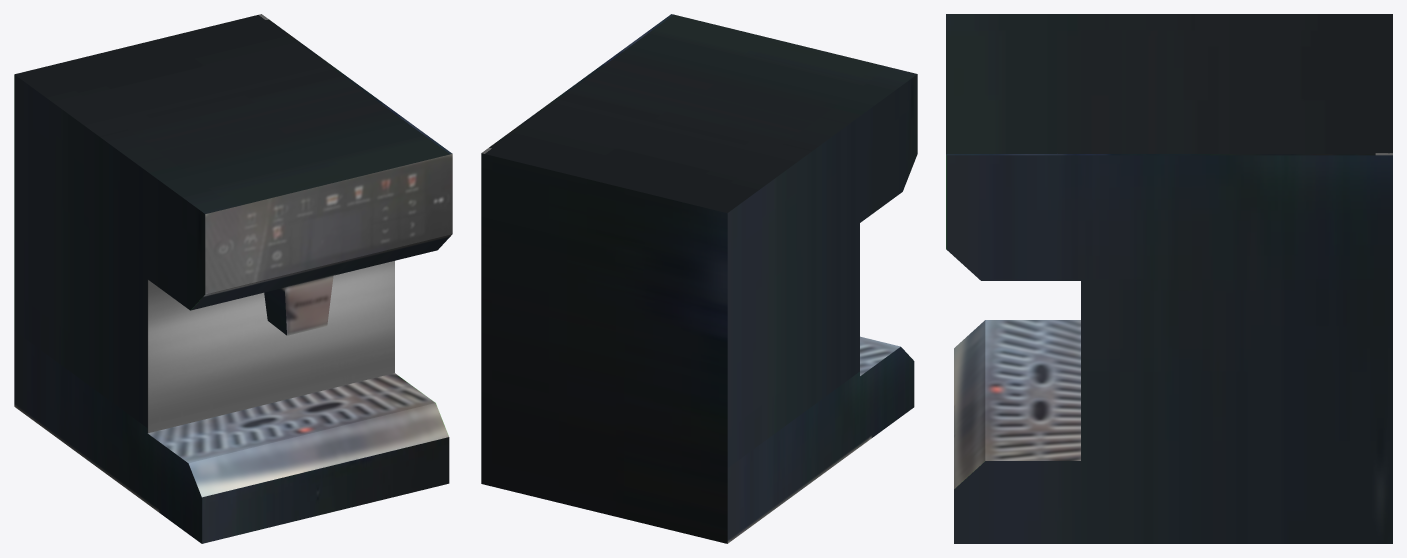
Rendered from express.glb.
3 views of the same model, side by side, from view 1: azimuth 30°, elevation 25°; view 2: azimuth 150°, elevation 25°; view 3: azimuth 270°, elevation 25° (orthographic). The views are drawn at different scales.
Visible parts, largest first — view 1: Cube.007; view 2: Cube.007; view 3: Cube.007.
Part boxes in pixels (x1,y1,x2,y2): Cube.007: (14,14,452,543); Cube.007: (481,14,917,543); Cube.007: (946,14,1392,543).
Size of the model in its own units: 0.8622 by 1.11 by 1.15.
Materials: 1 (1 with a texture image).
